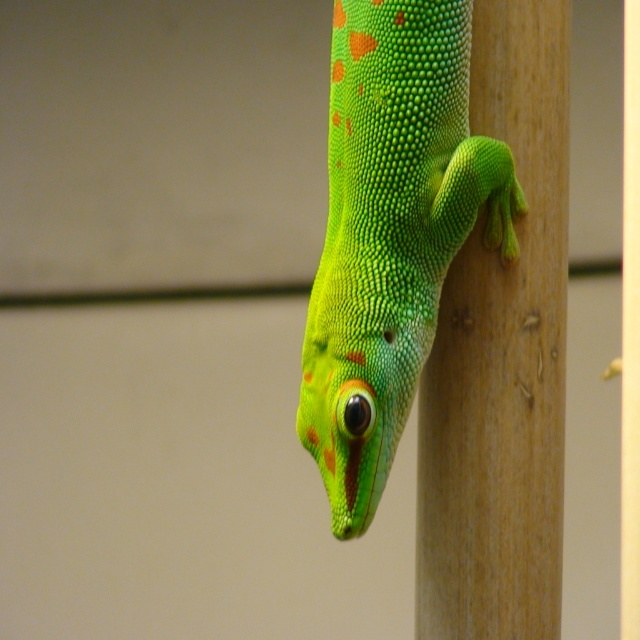Lizard: (299, 20, 532, 560)
